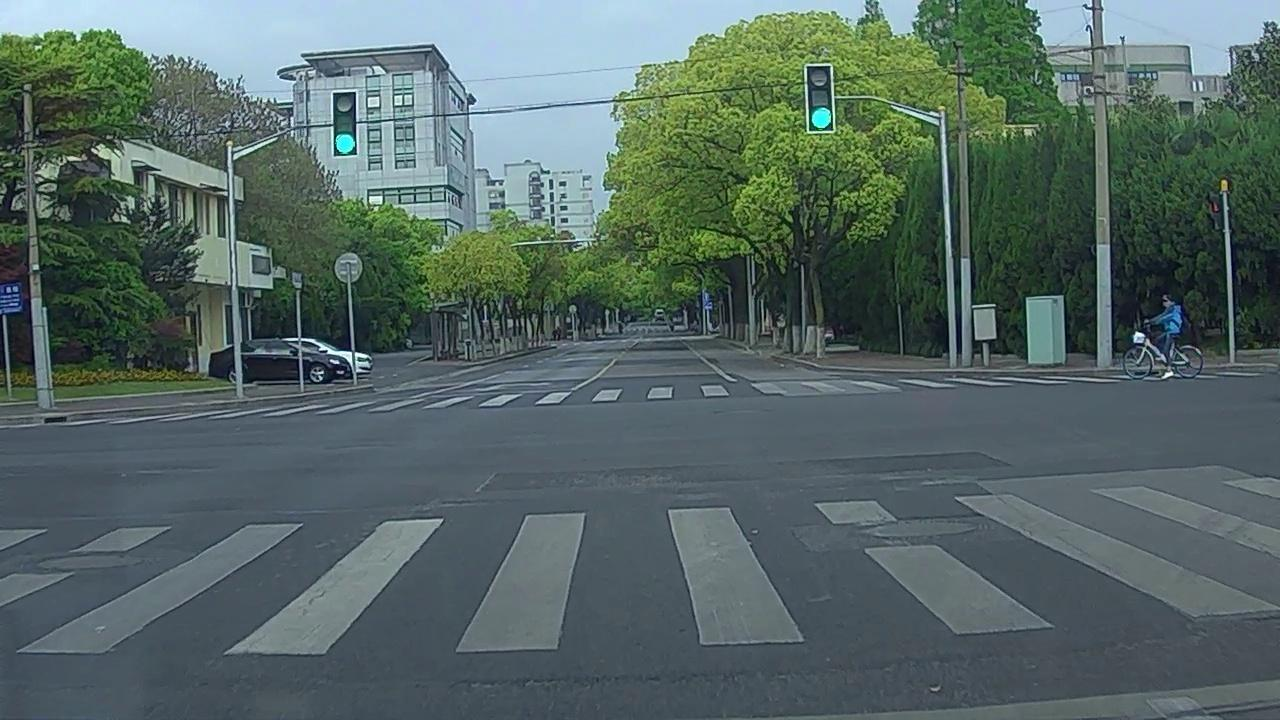traffic_light: (807, 66, 834, 134), (333, 92, 356, 157)
